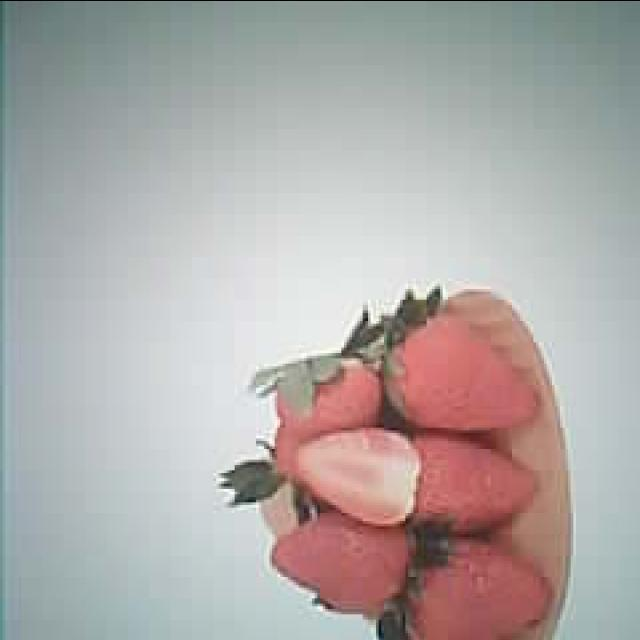strawberry: (384, 312, 536, 430), (404, 533, 554, 640)
